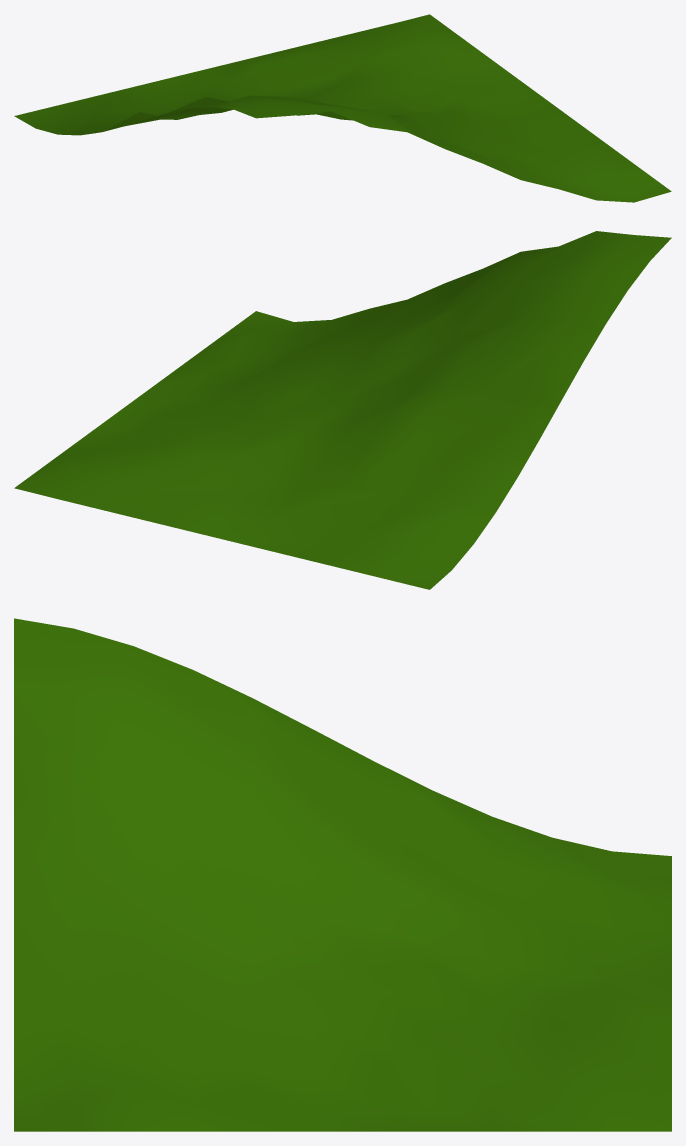
File: Cave Right Slope.fbx
3 renders of one model, top to bottom at view 1: azimuth 30°, elevation 25°; view 2: azimuth 150°, elevation 25°; view 3: azimuth 270°, elevation 25°, orthographic. The views are drawn at different scales.
Visible parts, largest first — view 1: Snow.008; view 2: Snow.008; view 3: Snow.008.
Part boxes in pixels (x1,y1,x2,y2): Snow.008: (14,14,671,202); Snow.008: (14,231,671,589); Snow.008: (14,618,671,1131).
Bounding box in the file's own units: 200 × 81.1 × 202.
